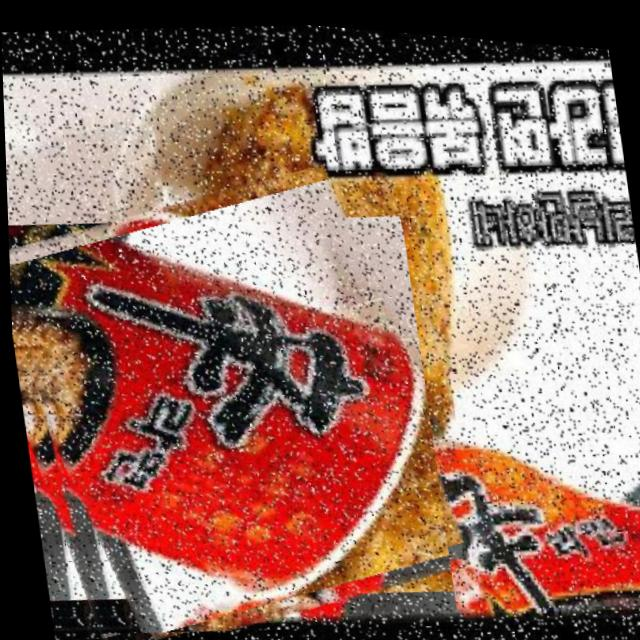Miscellaneous: (4, 150, 456, 640)
